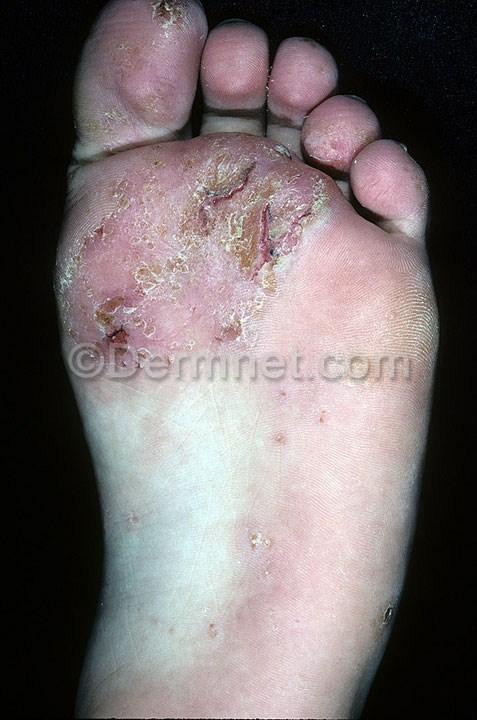Eczema: (70, 274, 220, 379), (278, 259, 385, 366), (70, 201, 212, 279), (74, 145, 207, 210), (212, 161, 287, 271), (108, 55, 198, 140), (227, 259, 294, 354), (211, 126, 315, 185), (223, 505, 293, 589), (220, 36, 276, 130), (382, 311, 437, 404), (286, 176, 343, 260), (151, 610, 234, 665), (378, 163, 426, 251), (103, 490, 170, 552), (288, 40, 326, 122), (323, 116, 371, 179), (85, 19, 146, 68), (135, 0, 197, 48), (307, 395, 352, 455), (73, 79, 113, 146), (251, 403, 312, 446), (385, 264, 436, 315), (377, 425, 420, 474), (362, 590, 405, 638)
